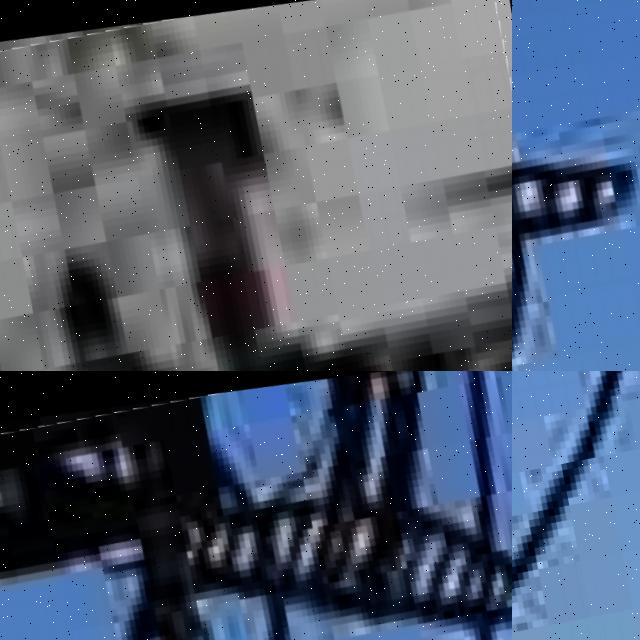drone: (0, 0, 512, 371), (0, 371, 512, 640), (512, 0, 640, 371), (512, 371, 640, 562)
